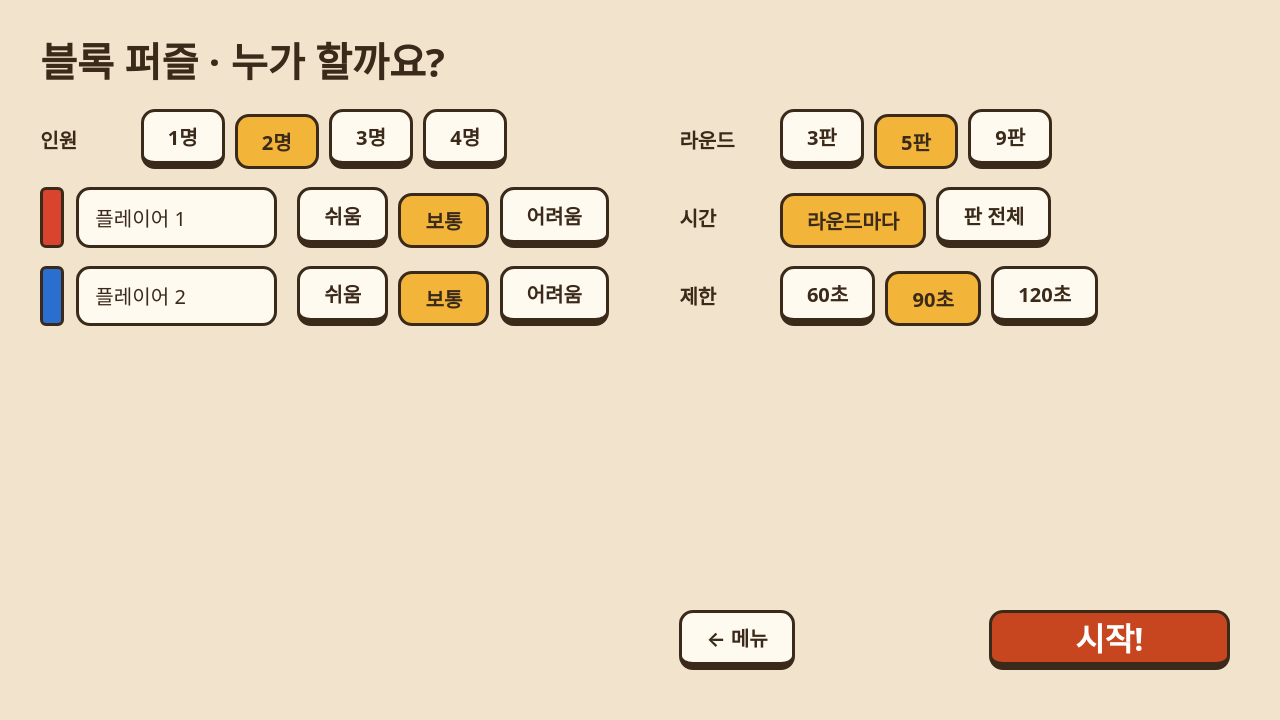
Test: PlayerSetup › 인원을 바꾸면 이름 칸 수가 바뀐다
Click the button "4명": point(465, 139) x1=423 y1=109 x2=507 y2=169
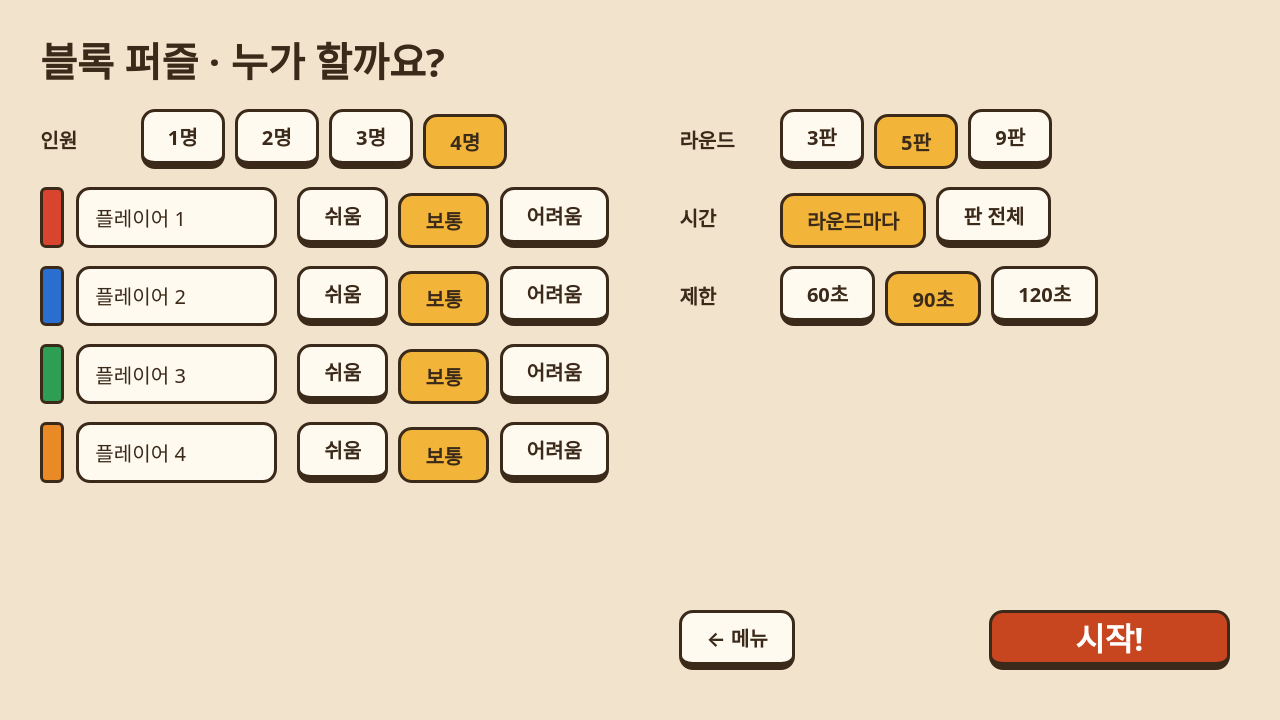
Now the number of fields is 4, box x1=76 y1=188 x2=277 y2=248; x1=76 y1=266 x2=277 y2=326; x1=76 y1=344 x2=277 y2=404; x1=76 y1=422 x2=277 y2=483
Click the button "1명": point(183, 139) x1=140 y1=109 x2=225 y2=169
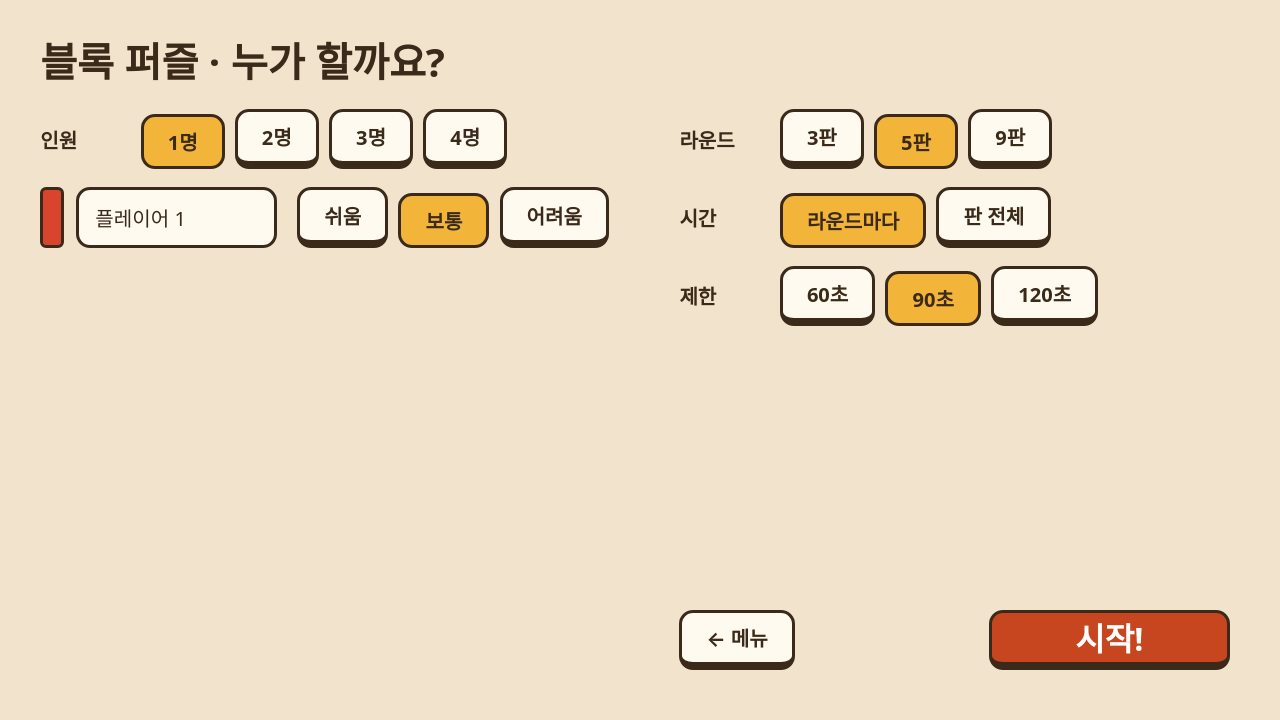
Now the number of fields is 1, box x1=76 y1=188 x2=277 y2=248
